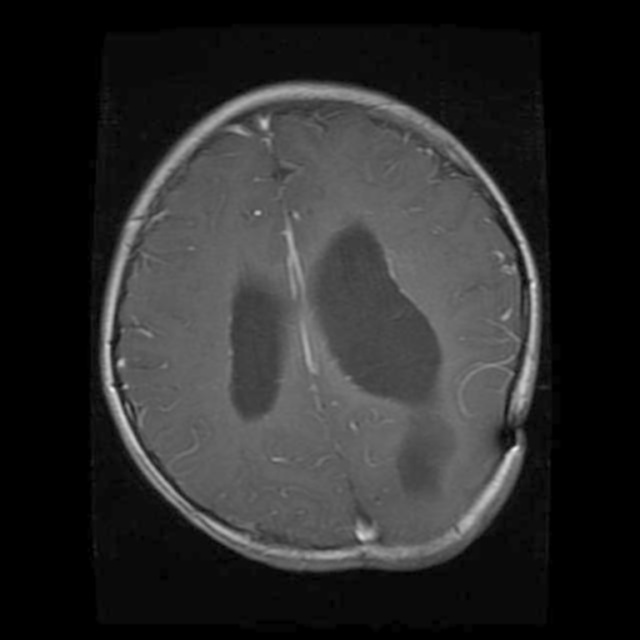pituitary tumor: (388, 398, 458, 502)
